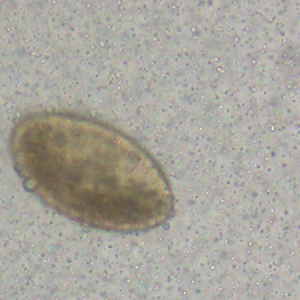Fasciola_hepatica_egg: (8, 110, 176, 235)
